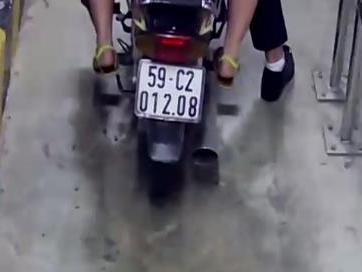num_plate: (139, 60, 204, 122)
